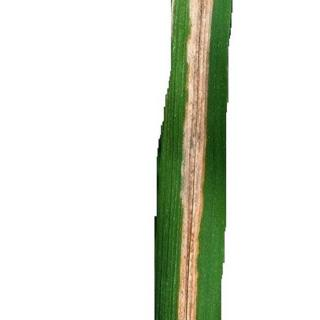Hawar-Daun: (172, 0, 207, 320)
